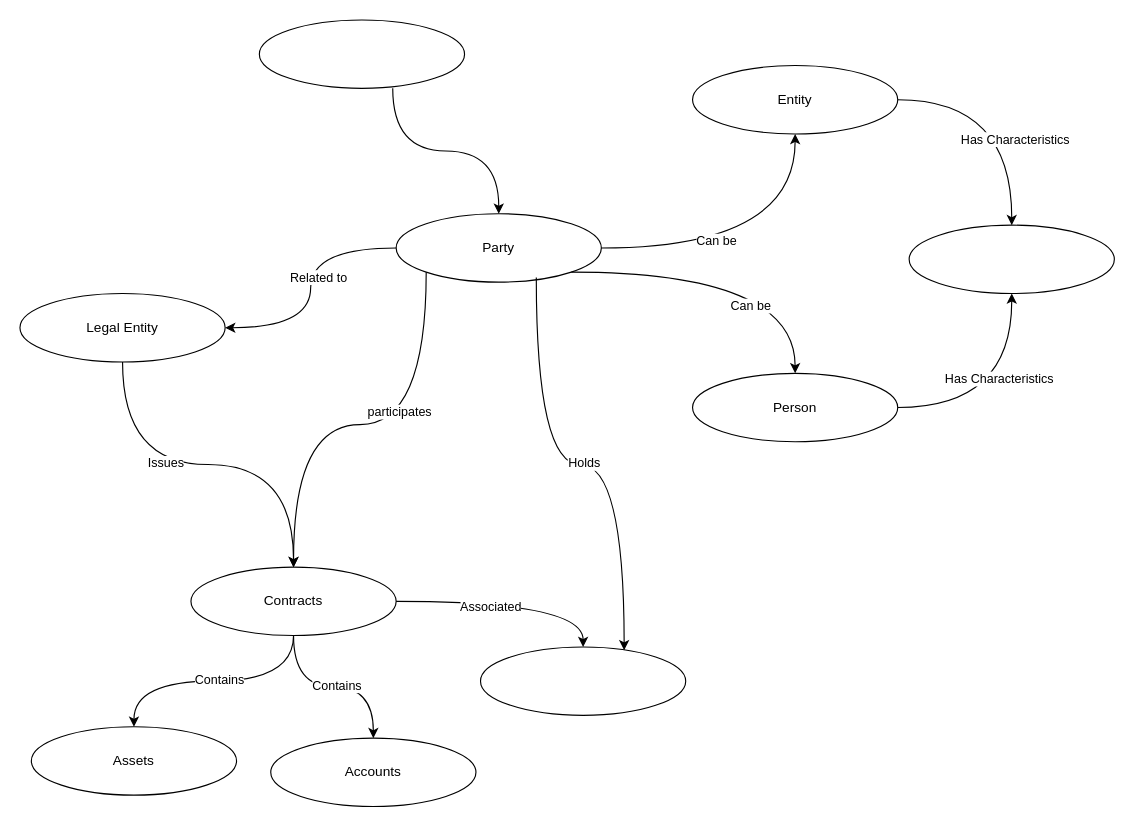
The diagram is 1134 pixels wide and 827 high, and some of its shapes have lost their labels. Here are the shapes that lost their labels. From the top down, the centre of each, then its label:
At [361,53]: "Metadata".
At [1011,259]: "Characteristics".
At [582,680]: "Documents".
